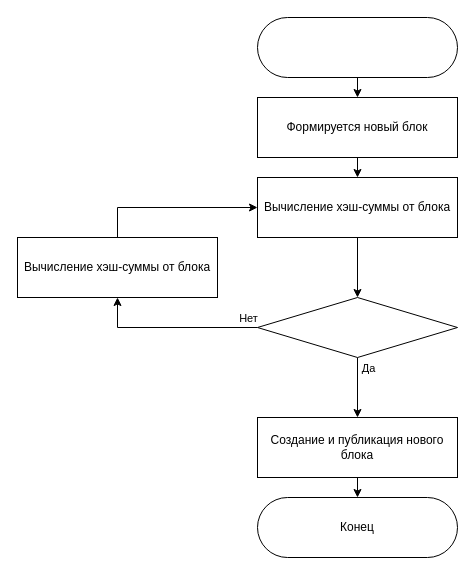
Image size: 475x575. Some labels were removed from this diagram. The shapes that lost their labels are listed below. From the top down, each one's box as (x1, y1, x2, y2) in pixels, then its label:
(256, 16, 458, 78): Начало
(256, 296, 458, 358): Хэш < заданное значние ?
